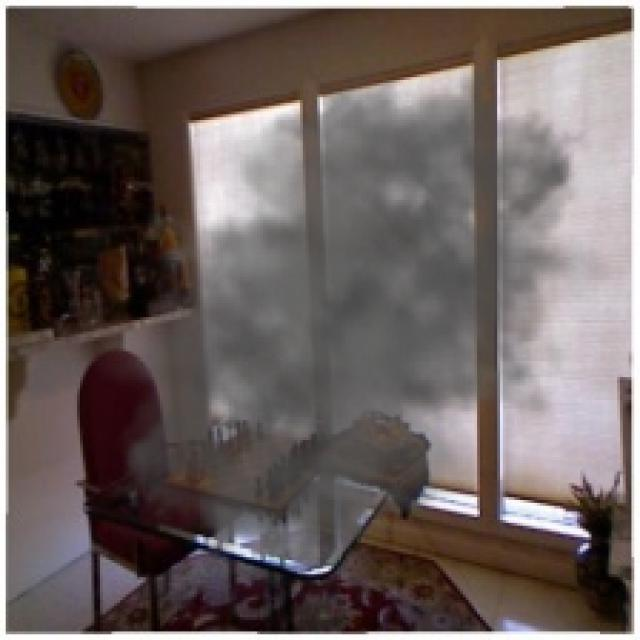smoke: (83, 32, 614, 597)
